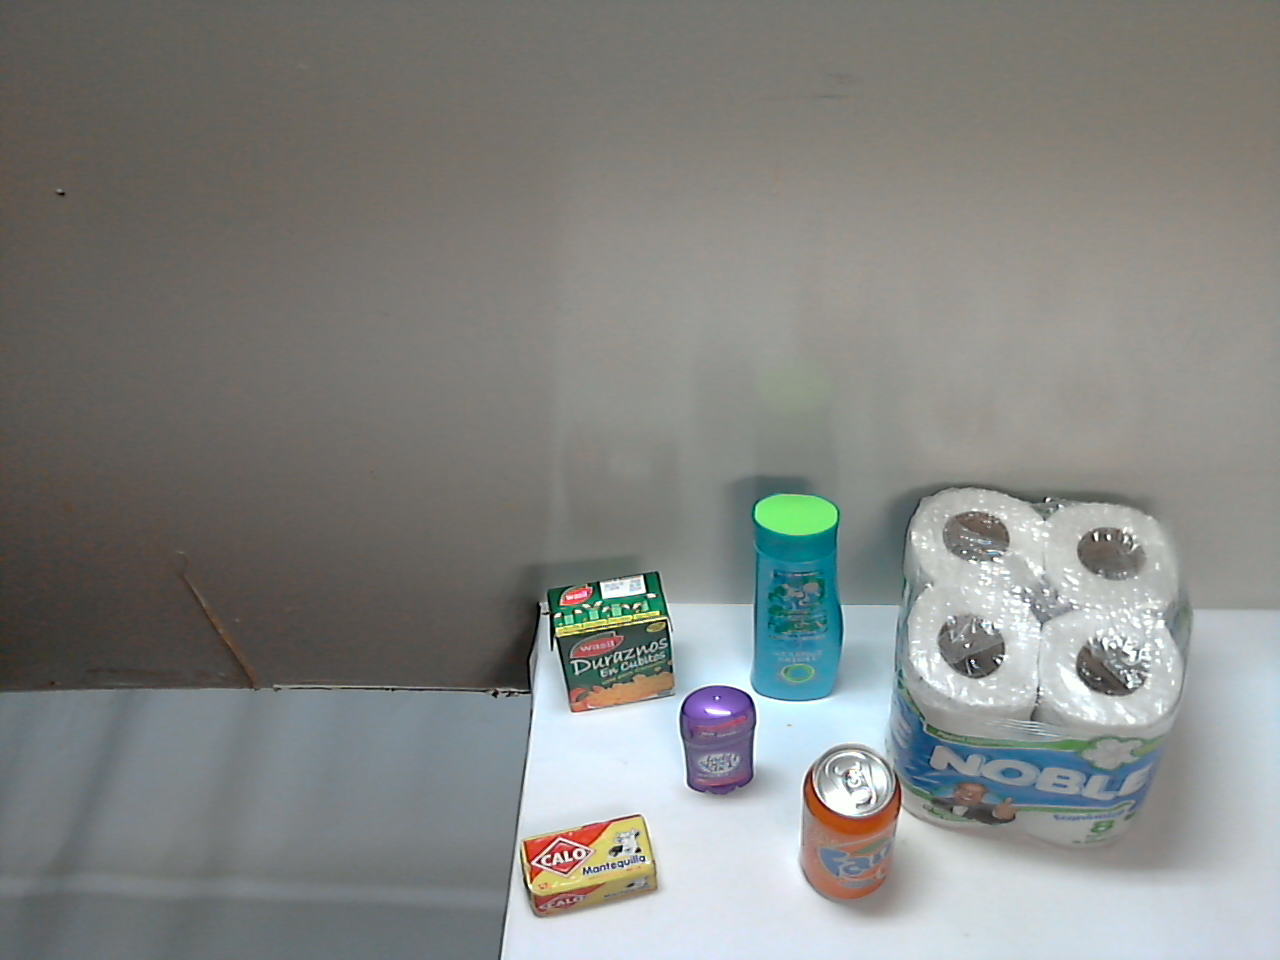balsamo: (638, 460, 758, 698)
confort: (883, 456, 1215, 864)
desodorante: (602, 695, 711, 828)
durazno: (758, 556, 892, 720)
lata: (533, 567, 649, 747)
mantequilla: (742, 736, 899, 863)
